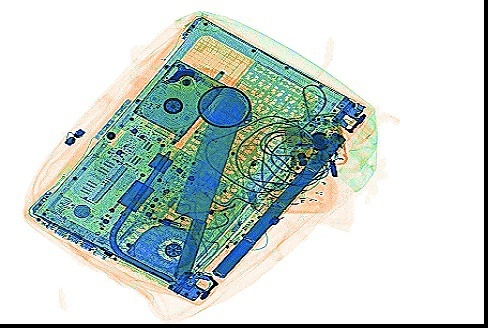knife: (173, 86, 246, 284)
